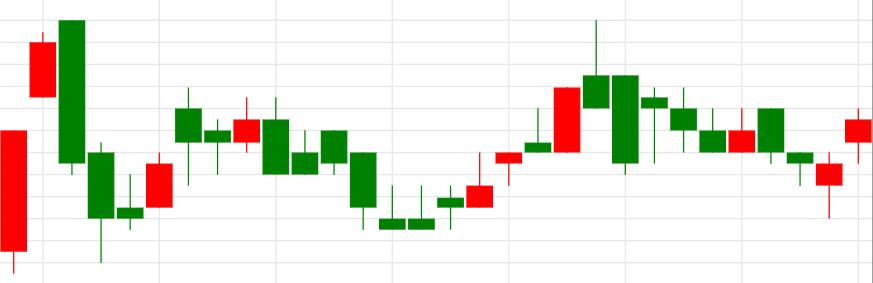shooting_star_fall: (378, 19, 611, 230)
